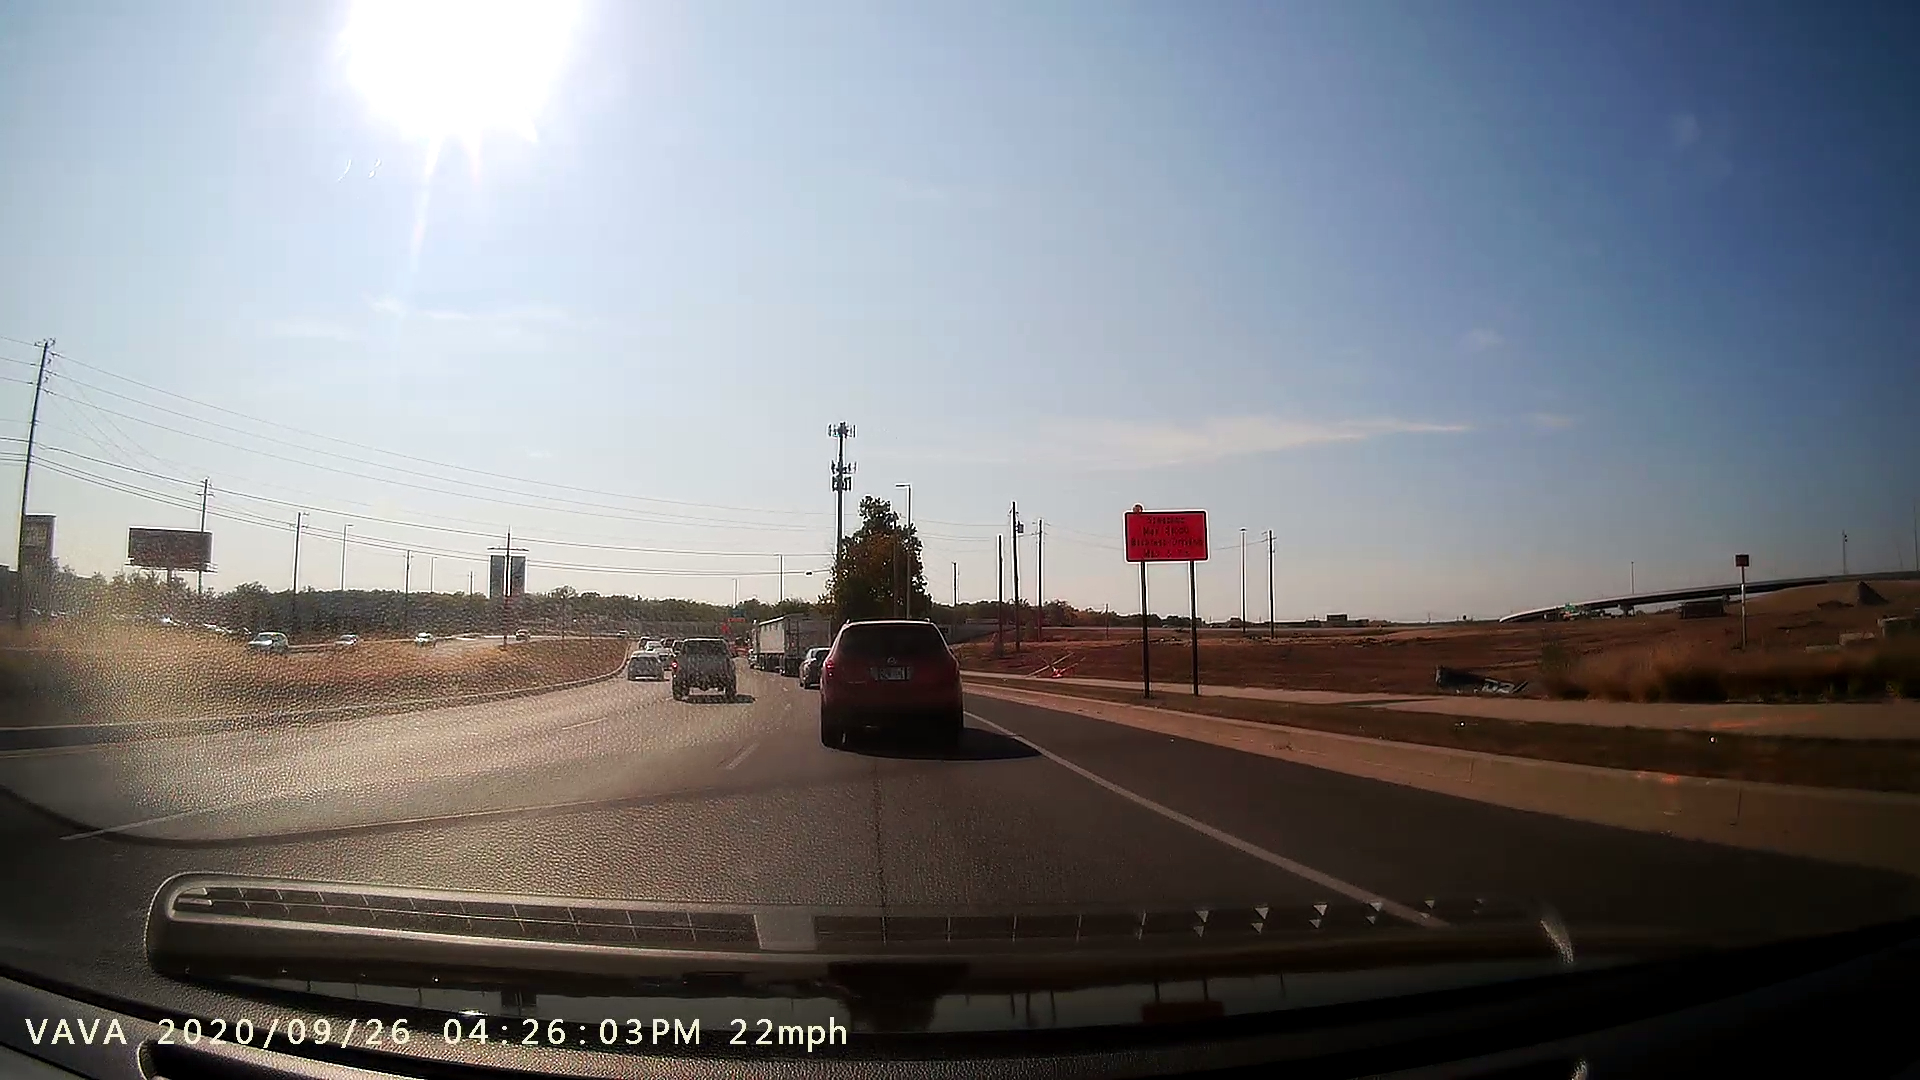temperary_sign: (1113, 501, 1217, 708)
